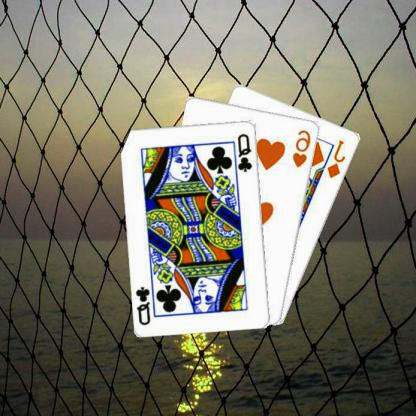6H: (292, 127, 314, 169)
JD: (326, 137, 349, 180)
QC: (237, 131, 256, 173), (135, 284, 153, 326)
